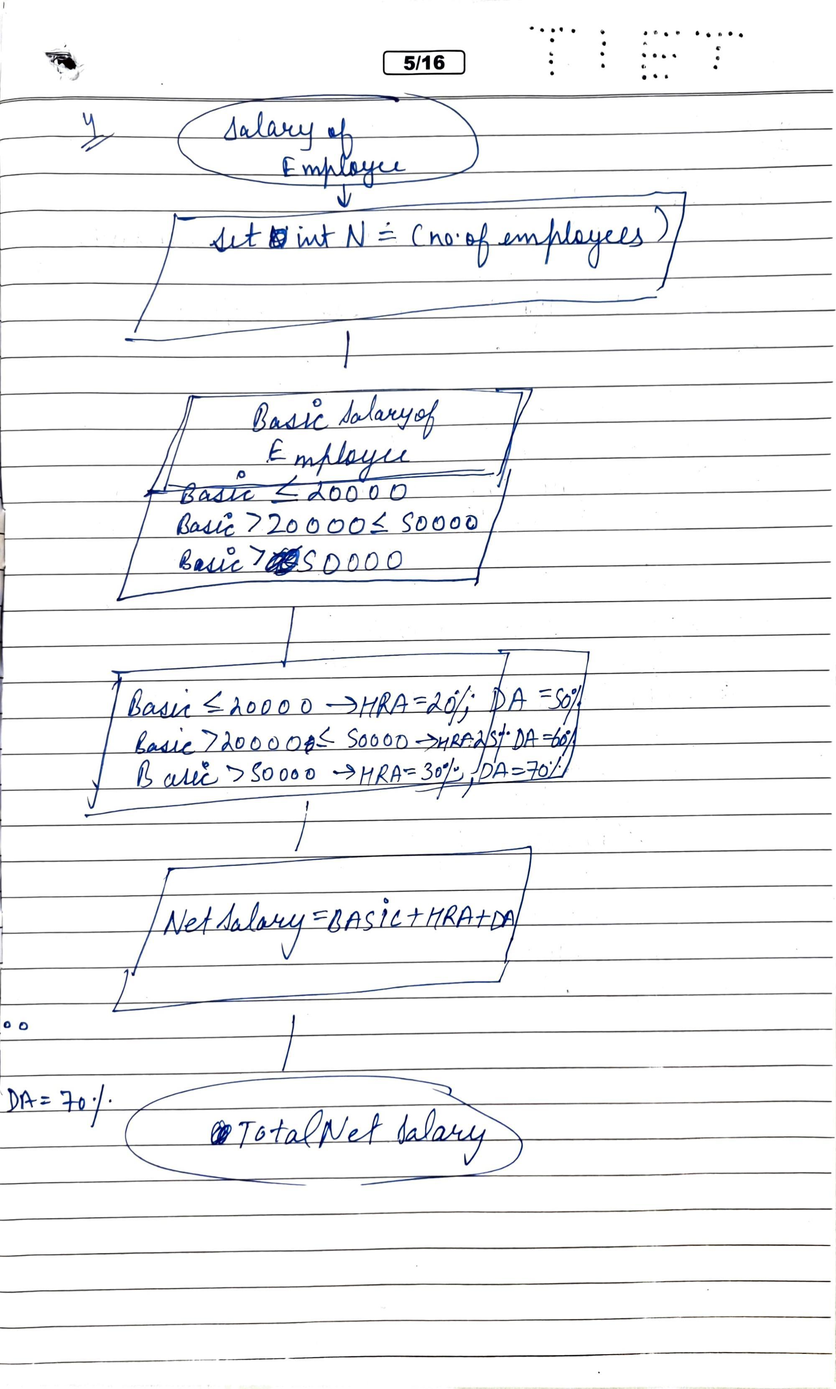cuttings: (163, 468, 495, 506), (264, 544, 303, 577), (210, 1119, 234, 1146), (268, 224, 289, 251), (303, 734, 316, 755)
